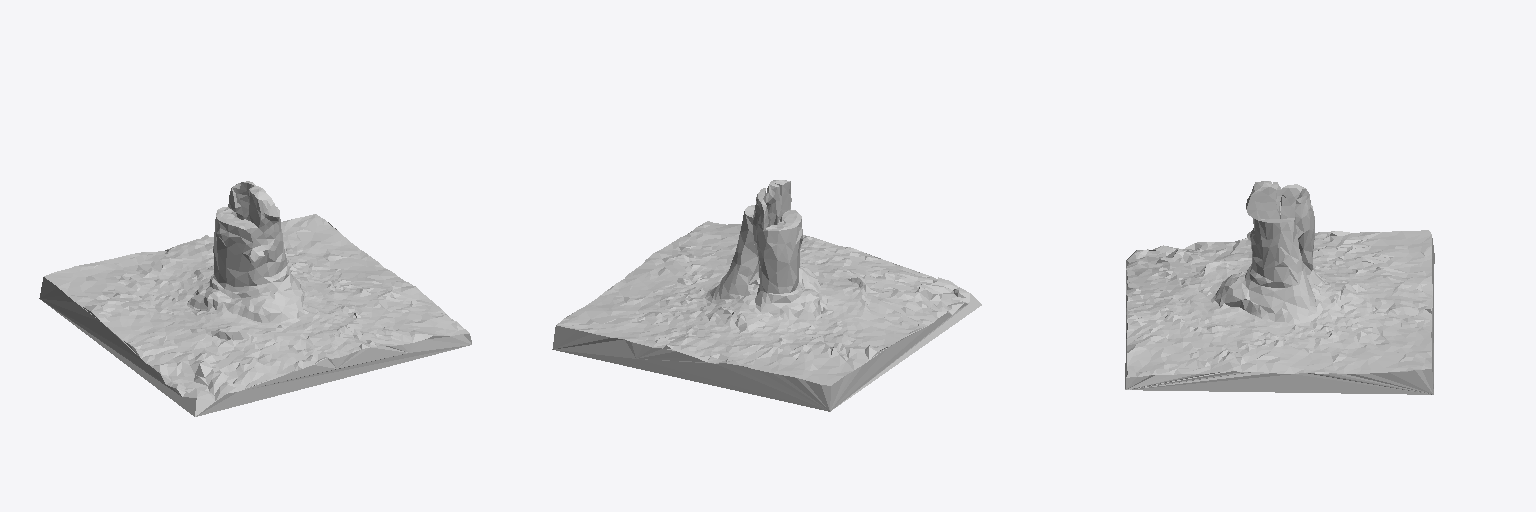
The model's file is TREE_STUMP_CARVED_5K.obj.
3 renders of one model, left to right at view 1: azimuth 30°, elevation 25°; view 2: azimuth 150°, elevation 25°; view 3: azimuth 270°, elevation 25°, orthographic.
Visible parts, largest first — view 1: TREE_STUMP_CARVED_5K_TREE_STUMP_CARVED_500K.001; view 2: TREE_STUMP_CARVED_5K_TREE_STUMP_CARVED_500K.001; view 3: TREE_STUMP_CARVED_5K_TREE_STUMP_CARVED_500K.001.
Boxes of the visible parts, x1,y1,x2,y2 form: TREE_STUMP_CARVED_5K_TREE_STUMP_CARVED_500K.001: [39, 181, 471, 416]; TREE_STUMP_CARVED_5K_TREE_STUMP_CARVED_500K.001: [552, 180, 981, 411]; TREE_STUMP_CARVED_5K_TREE_STUMP_CARVED_500K.001: [1125, 181, 1434, 394].
Bounding box in the file's own units: 2.54 × 1.24 × 2.44.